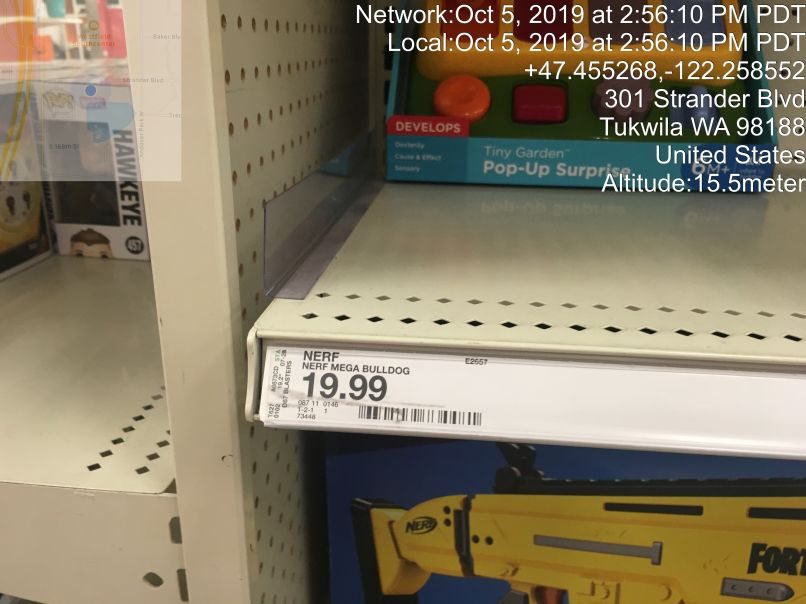Label: (261, 336, 492, 438)
Location: (587, 84, 806, 170)
Time: (345, 1, 806, 59)
Void: (324, 116, 790, 323)
